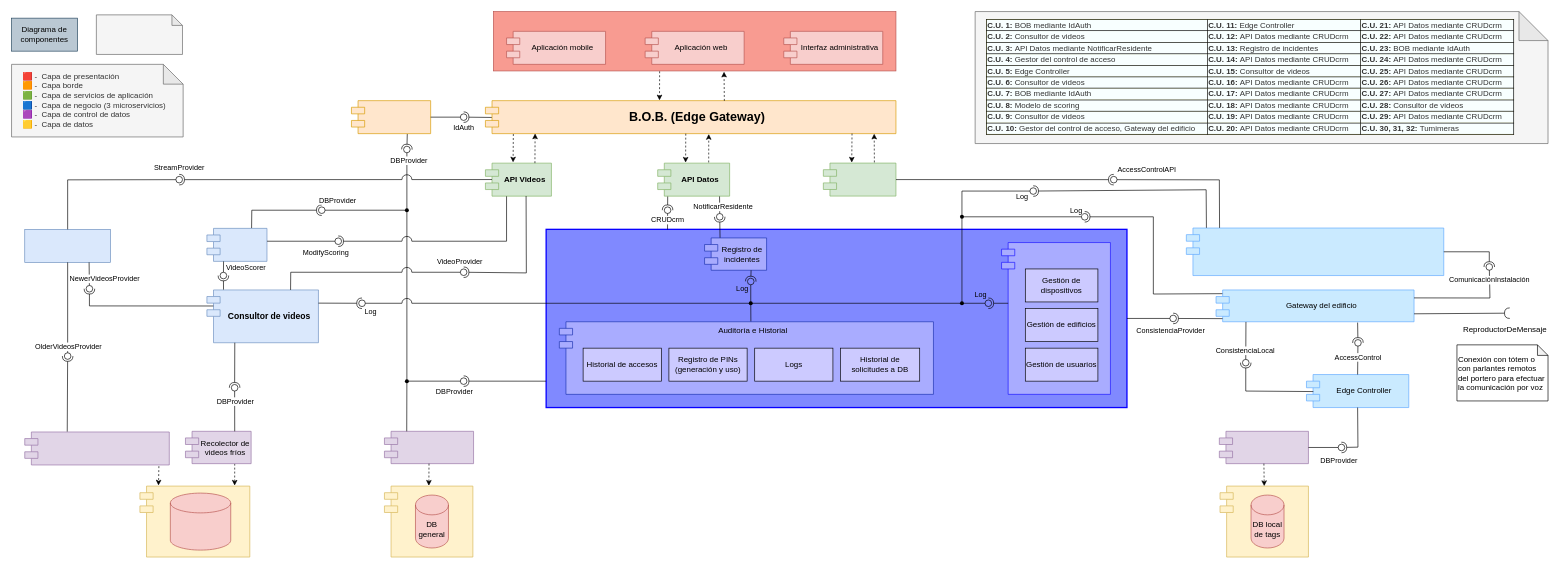
This 1560x569 diagram has some shape labels left out. Here are the shapes that lost their labels. From the top down, the box of each, then its label:
(96, 14, 182, 54): Patrón Multi-Tier
(493, 11, 896, 71): Frontend
(351, 100, 431, 134): Autenticación y autorización
(823, 162, 896, 196): API Peticiones
(24, 229, 111, 262): Tumimeras - externo
(206, 228, 267, 261): Modelo de scoring
(1186, 227, 1444, 276): Gestor del control de acceso
(545, 228, 1127, 408): CRM
(1001, 242, 1110, 394): Gestión de entidades
(24, 431, 169, 465): La Heladera
(384, 431, 474, 464): Persistencia datos e información general
(1219, 431, 1308, 464): Persistencia local de tags
(170, 492, 231, 550): DB histórica de videos
